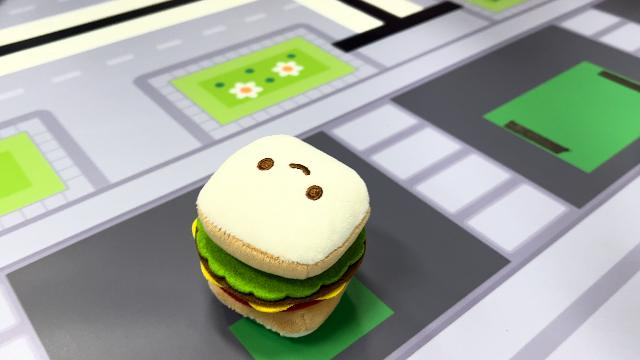sandwich: (190, 132, 372, 338)
